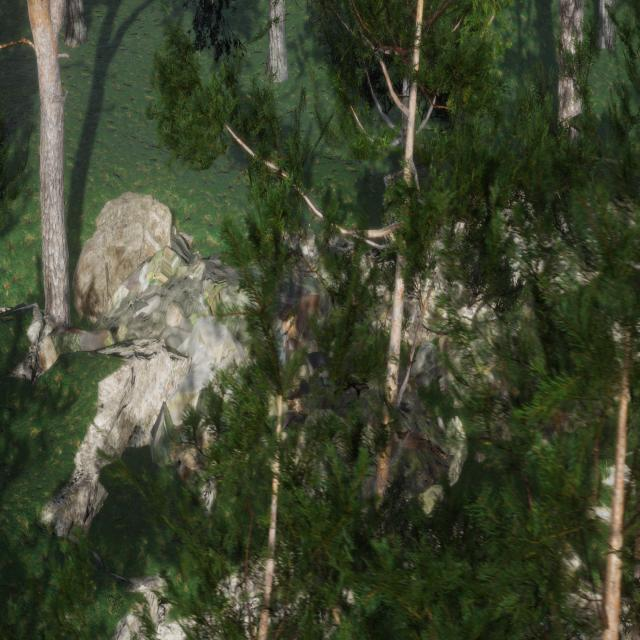Human: (269, 296, 347, 400)
